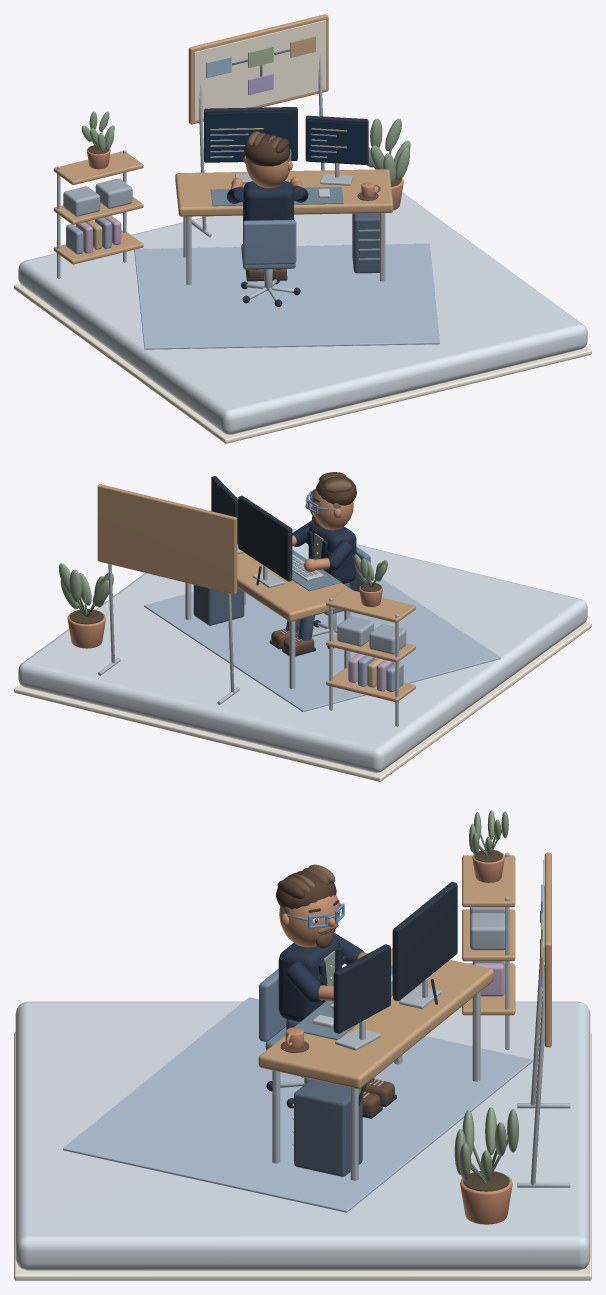
3 views of the same model, one above another, from view 1: azimuth 30°, elevation 25°; view 2: azimuth 150°, elevation 25°; view 3: azimuth 270°, elevation 25° (orthographic). The views are drawn at different scales.
Parts seen in each view (by area): view 1: Square floating plinth, Workstation rug, Planning board surface, Oak desktop, Ivory lower edge, Screen glass, Chair back, Screen glass.001, Planning board frame, Jacket body, Computer tower, Library shelf.002 (+9 smaller); view 2: Square floating plinth, Workstation rug, Planning board frame, Ivory lower edge, Oak desktop, Monitor frame, Computer tower, Library shelf.002, Jacket body, Library shelf, Terracotta planter.001, Face (+9 smaller); view 3: Square floating plinth, Workstation rug, Oak desktop, Ivory lower edge, Computer tower, Monitor frame, Monitor frame.001, Jacket body, Library shelf.002, Terracotta planter.001, Face, Planning board frame (+16 smaller).
Boxes of the visible parts, x1=… form: Square floating plinth: x1=18, y1=192, x2=587, y2=434; Workstation rug: x1=134, y1=243, x2=439, y2=349; Planning board surface: x1=194, y1=20, x2=325, y2=120; Oak desktop: x1=175, y1=169, x2=393, y2=216; Ivory lower edge: x1=14, y1=283, x2=591, y2=443; Screen glass: x1=207, y1=111, x2=295, y2=160; Chair back: x1=243, y1=219, x2=296, y2=264; Screen glass.001: x1=308, y1=120, x2=364, y2=163; Planning board frame: x1=188, y1=14, x2=328, y2=124; Jacket body: x1=243, y1=181, x2=293, y2=221; Computer tower: x1=352, y1=213, x2=379, y2=273; Library shelf.002: x1=53, y1=151, x2=143, y2=184; Square floating plinth: x1=18, y1=528, x2=587, y2=772; Workstation rug: x1=144, y1=573, x2=500, y2=711; Planning board frame: x1=97, y1=484, x2=237, y2=594; Ivory lower edge: x1=14, y1=622, x2=591, y2=781; Oak desktop: x1=237, y1=544, x2=352, y2=621; Monitor frame: x1=238, y1=495, x2=292, y2=581; Computer tower: x1=193, y1=585, x2=244, y2=625; Library shelf.002: x1=326, y1=588, x2=415, y2=622; Jacket body: x1=308, y1=523, x2=356, y2=583; Library shelf: x1=326, y1=668, x2=415, y2=702; Terracotta planter.001: x1=67, y1=613, x2=105, y2=648; Face: x1=311, y1=488, x2=353, y2=530; Square floating plinth: x1=15, y1=1001, x2=590, y2=1270; Workstation rug: x1=63, y1=997, x2=532, y2=1212; Oak desktop: x1=258, y1=948, x2=493, y2=1088; Ivory lower edge: x1=14, y1=1032, x2=591, y2=1280; Computer tower: x1=294, y1=1079, x2=362, y2=1176; Monitor frame: x1=393, y1=882, x2=457, y2=1000; Monitor frame.001: x1=333, y1=944, x2=390, y2=1033; Jacket body: x1=278, y1=936, x2=340, y2=1022; Library shelf.002: x1=462, y1=855, x2=515, y2=907; Terracotta planter.001: x1=460, y1=1176, x2=512, y2=1224; Face: x1=279, y1=894, x2=339, y2=947; Planning board frame: x1=544, y1=852, x2=551, y2=1047.
Bounding box in the file's own units: 5.23 × 2.91 × 5.23.
